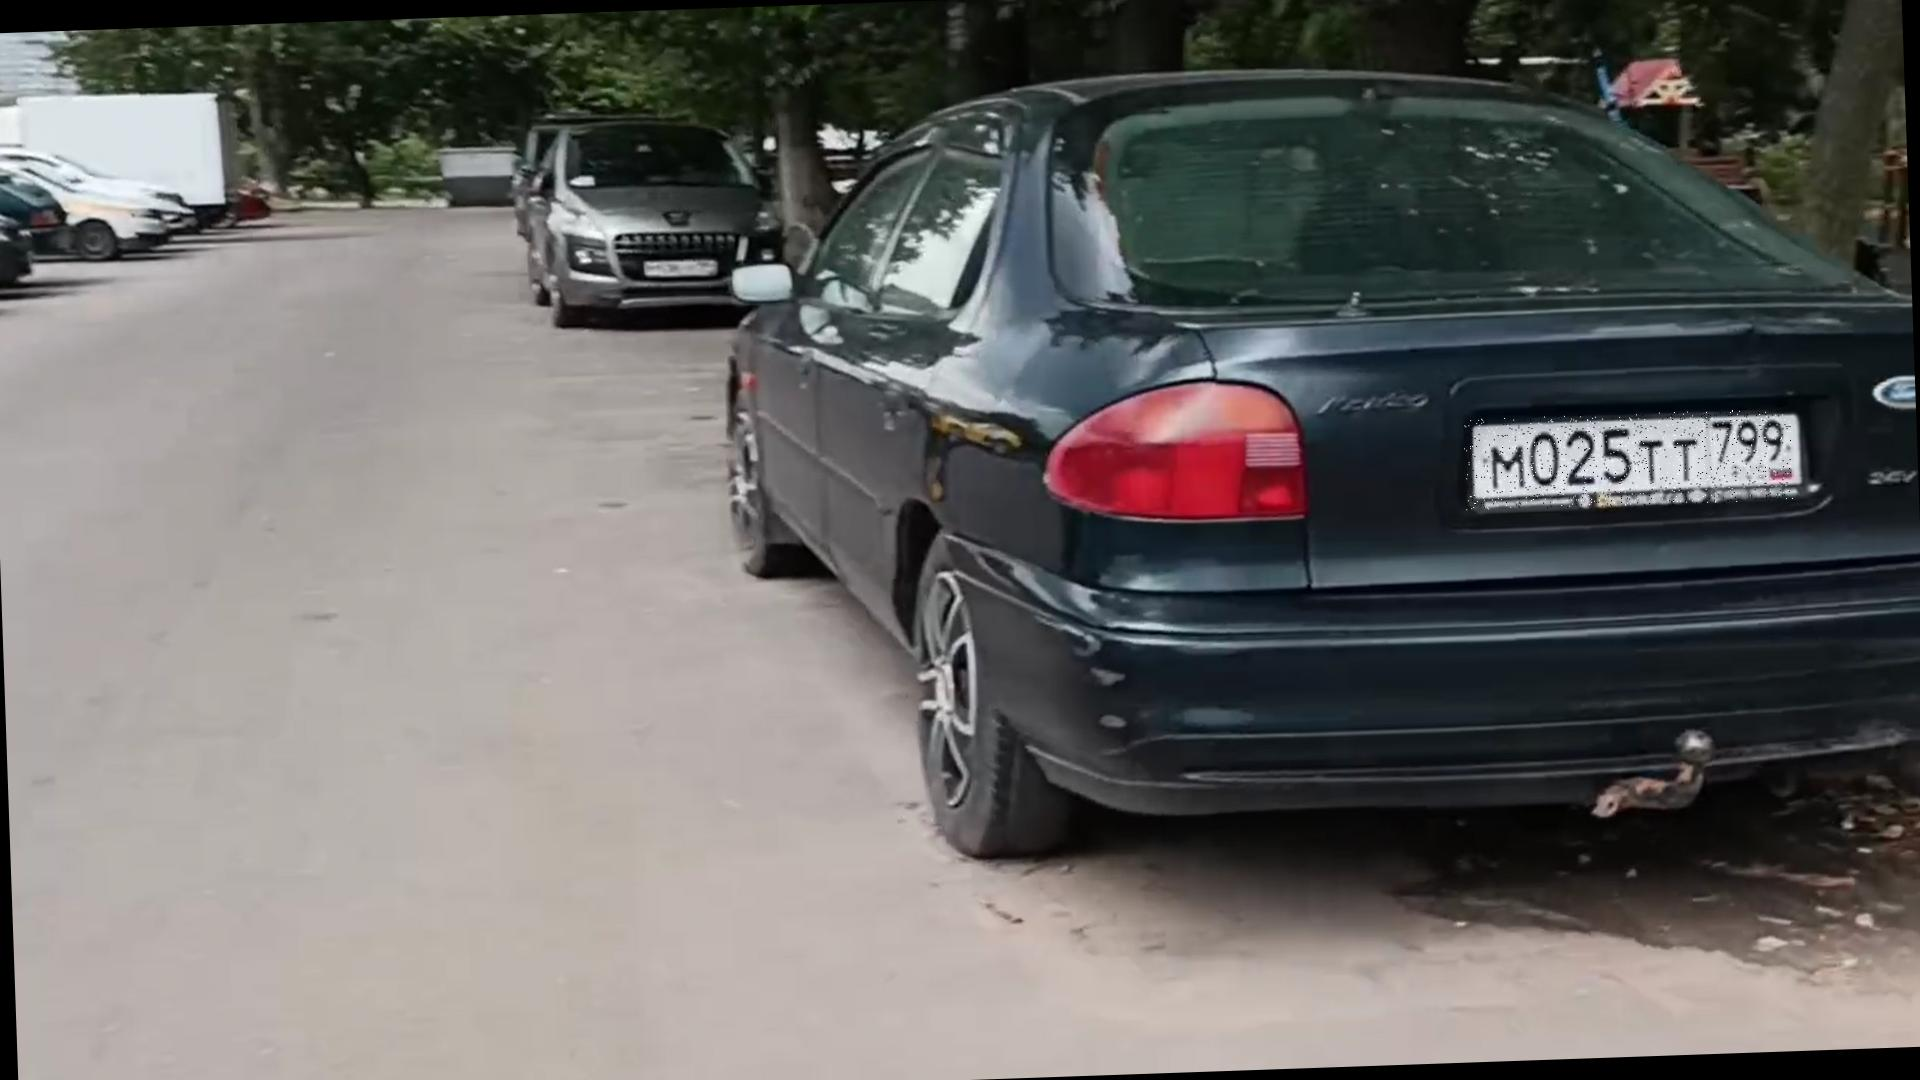plate: (1465, 409, 1796, 512), (646, 265, 715, 281)
